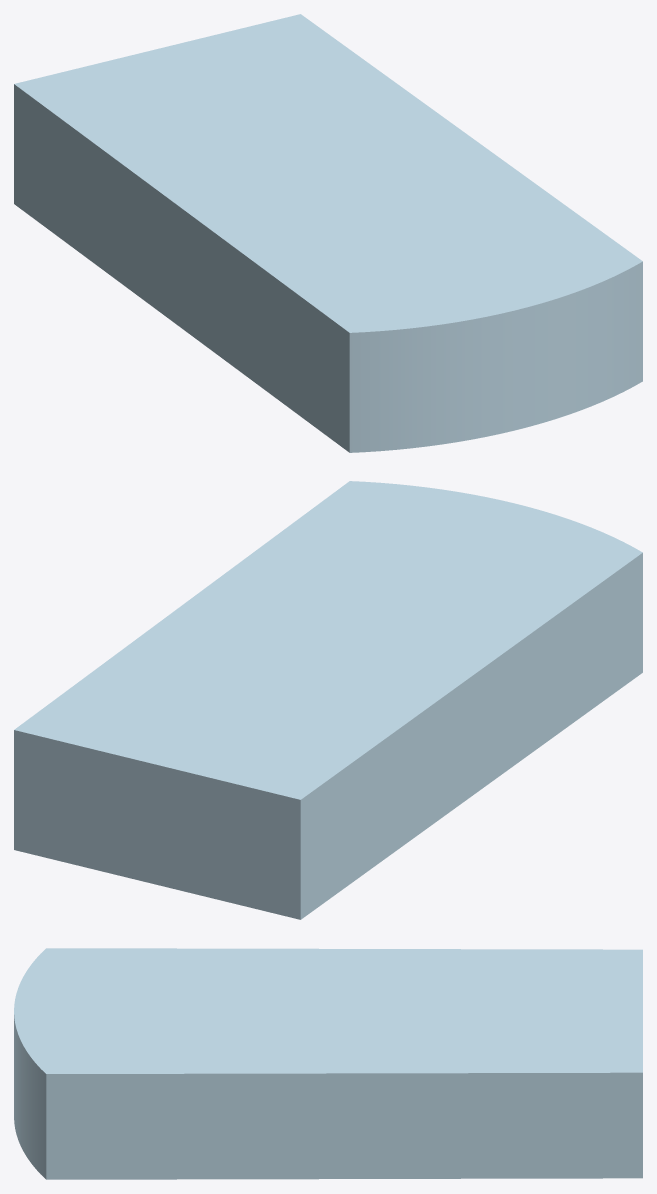
3 renders of one model, top to bottom at view 1: azimuth 30°, elevation 25°; view 2: azimuth 150°, elevation 25°; view 3: azimuth 270°, elevation 25°, orthographic. The views are drawn at different scales.
Parts seen in each view (by area): view 1: PA-6-F_LOD0; view 2: PA-6-F_LOD0; view 3: PA-6-F_LOD0.
Boxes of the visible parts, x1=… form: PA-6-F_LOD0: x1=14, y1=14, x2=642, y2=452; PA-6-F_LOD0: x1=14, y1=481, x2=642, y2=919; PA-6-F_LOD0: x1=14, y1=948, x2=642, y2=1179.
Size of what is drawn, in the model's own units: 25.98 by 10.16 by 54.82.
